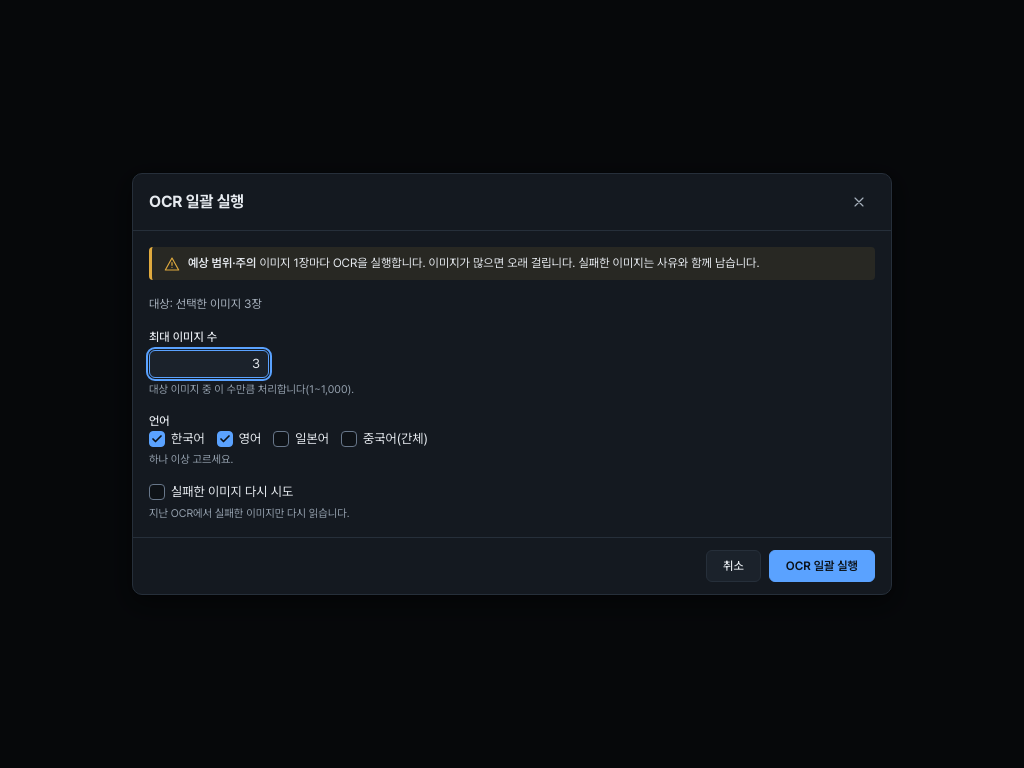
OCR selection vs max_items (9) › says when a lowered limit processes only part of the selection
Replace the text in the field labelled "최대 이미지 수" with "2" at (209, 364), box x1=149 y1=350 x2=269 y2=378
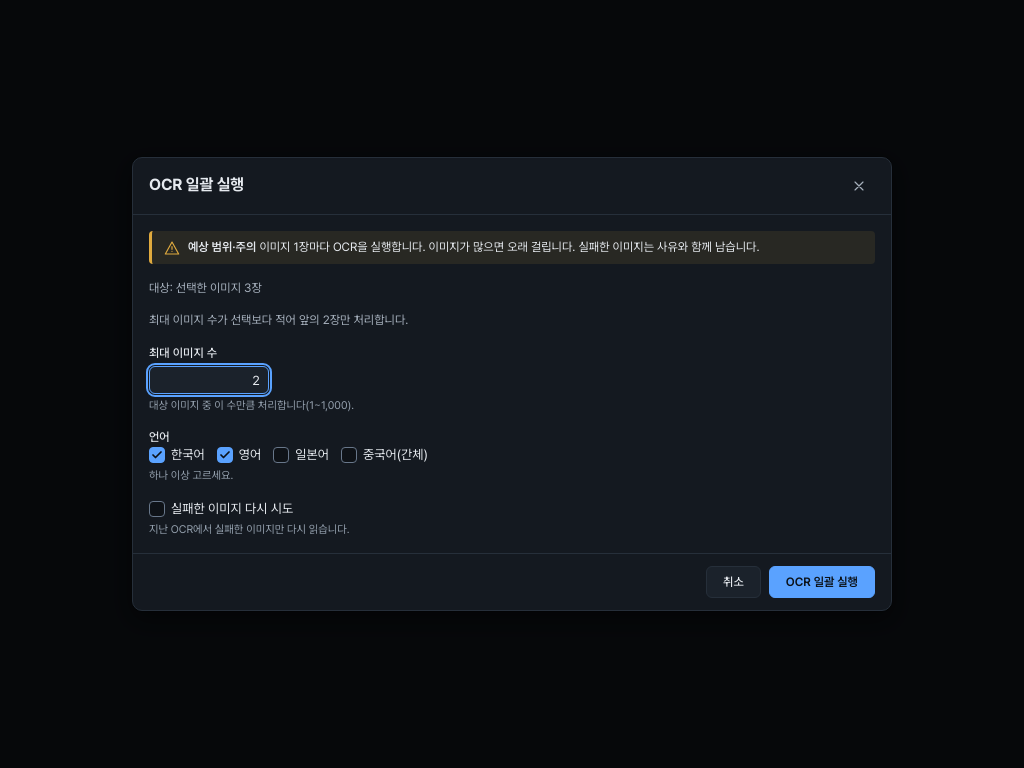
Check: the text with test id "analysis-target-warning" shows "앞의 2장만", box x1=149 y1=313 x2=408 y2=327
